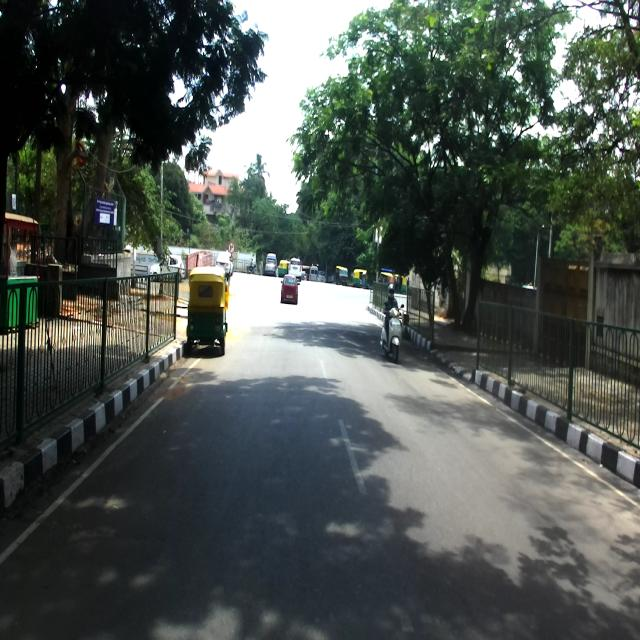auto ahead at: (184, 265, 230, 356)
